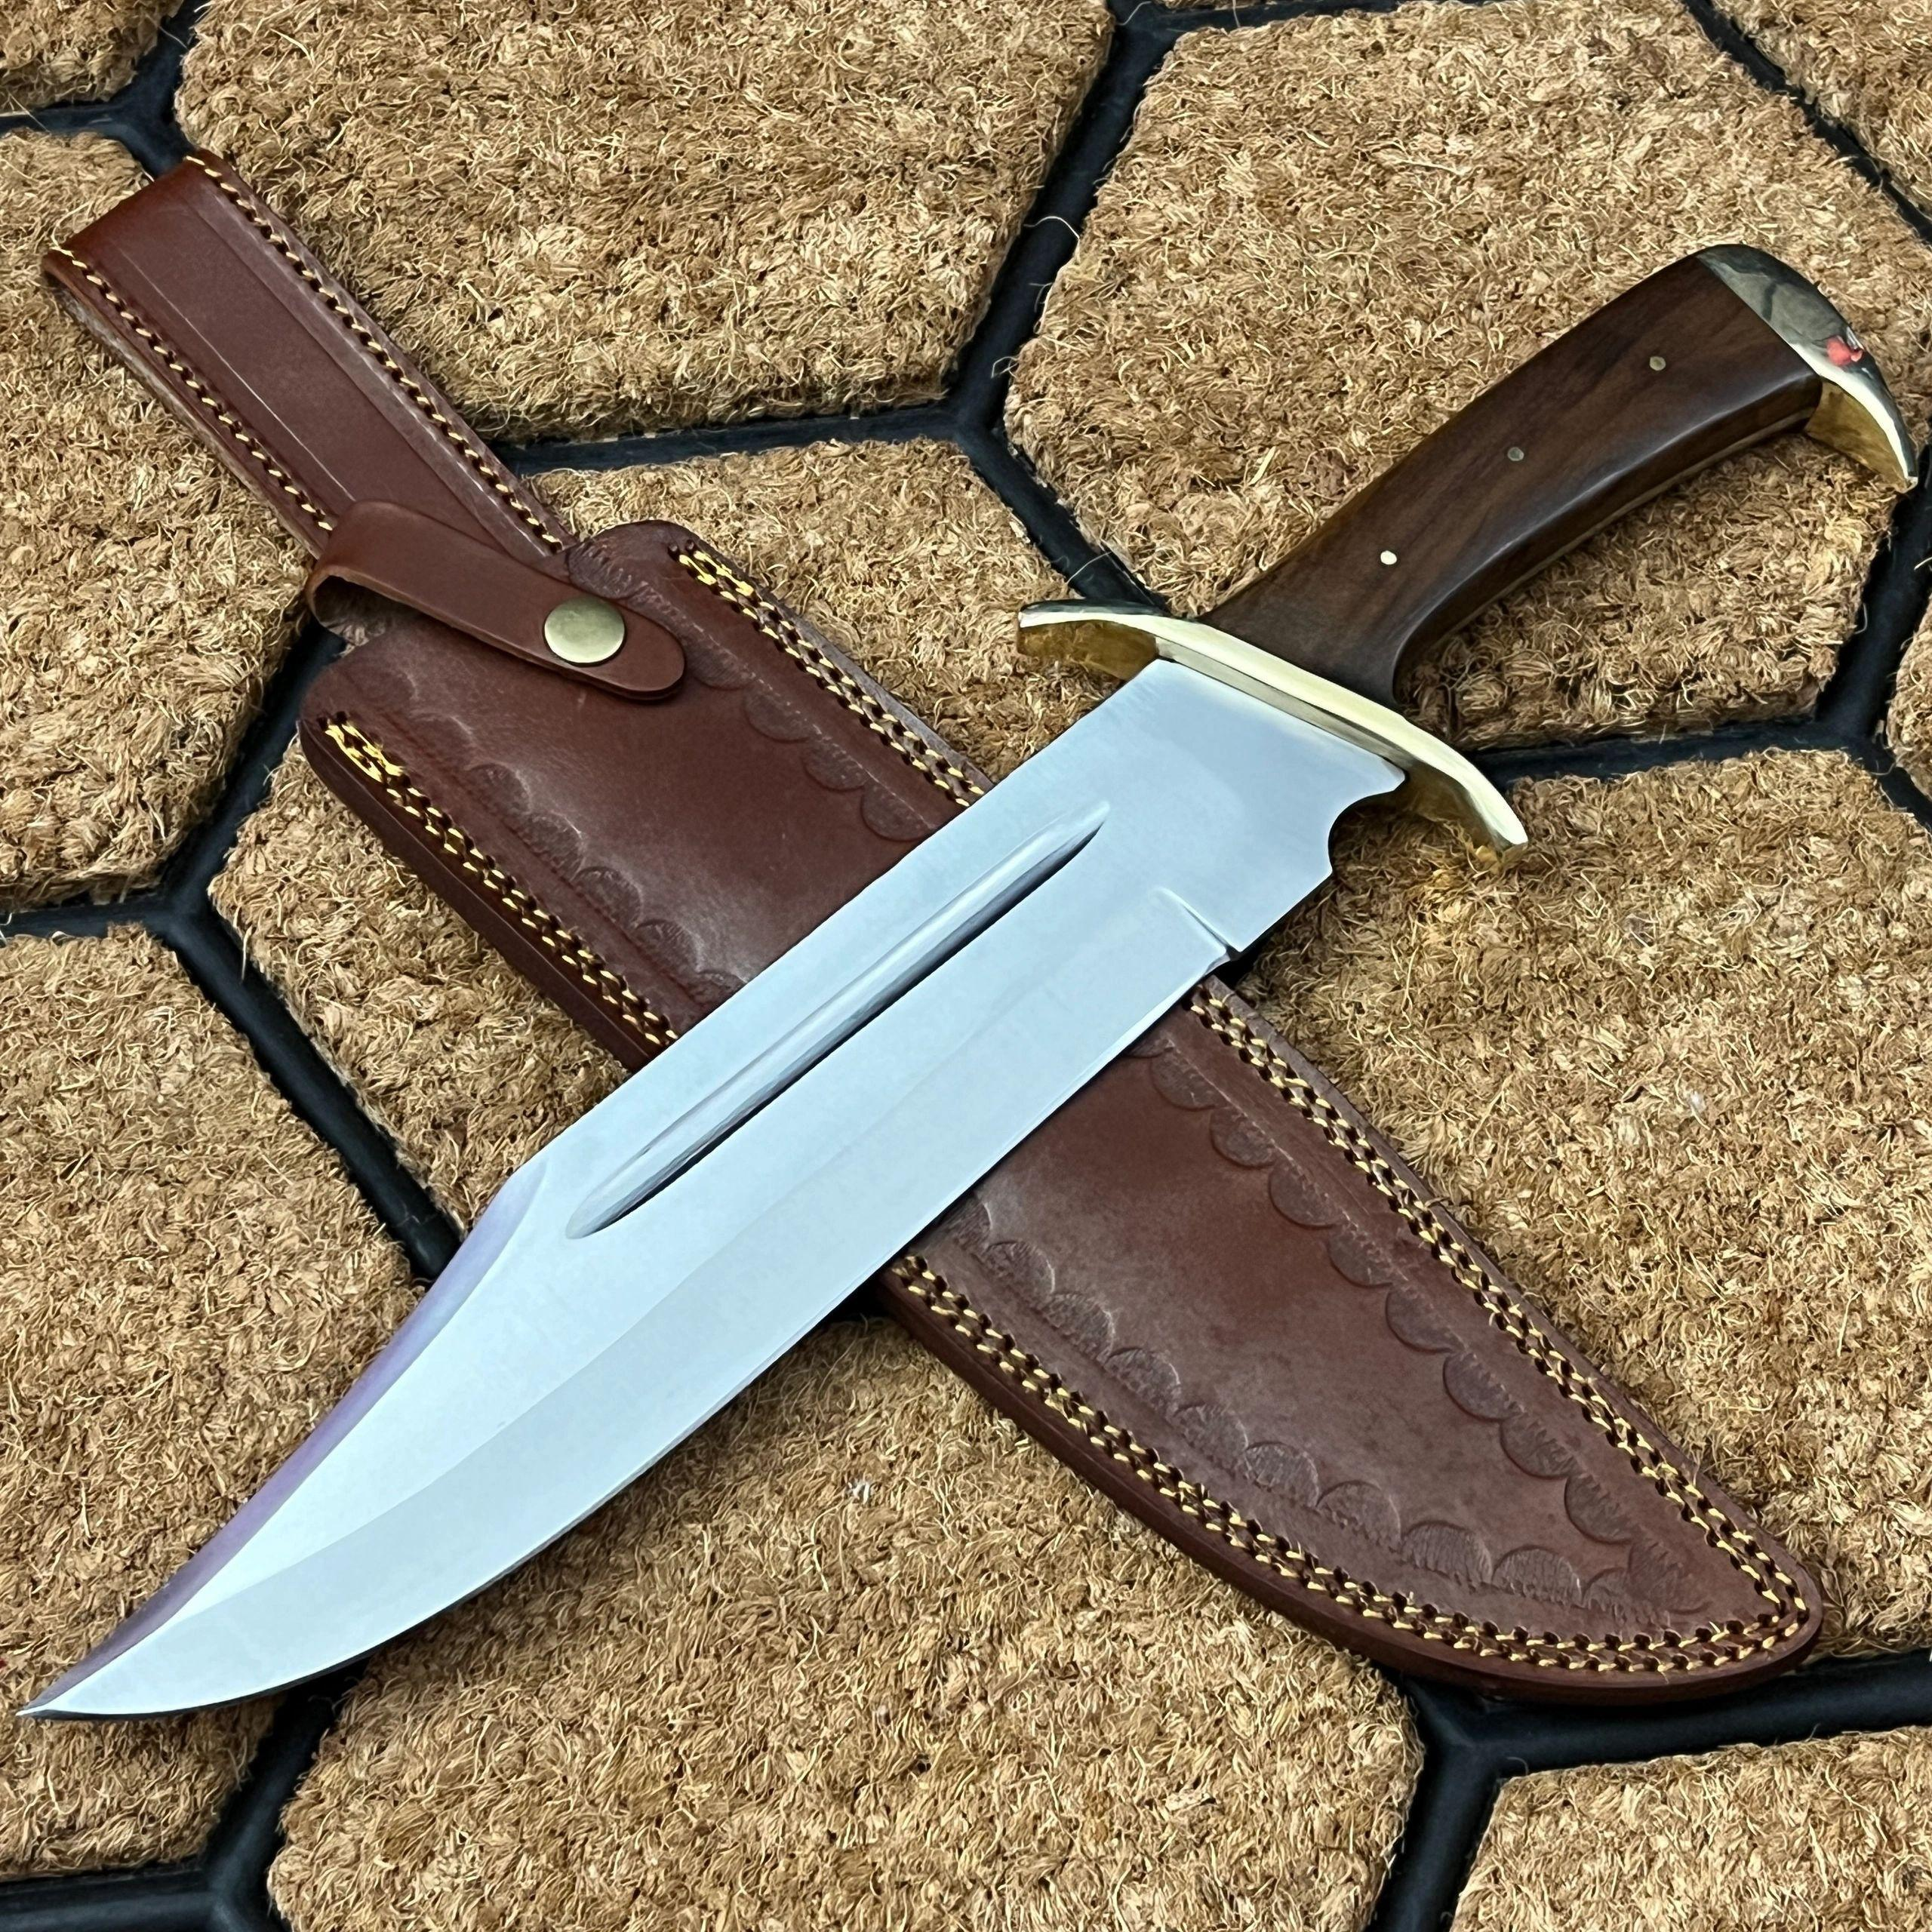faca: (34, 248, 1916, 1716)
